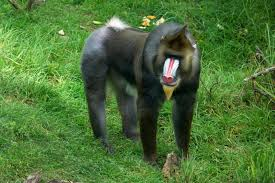Mandrill: (77, 20, 199, 150)
